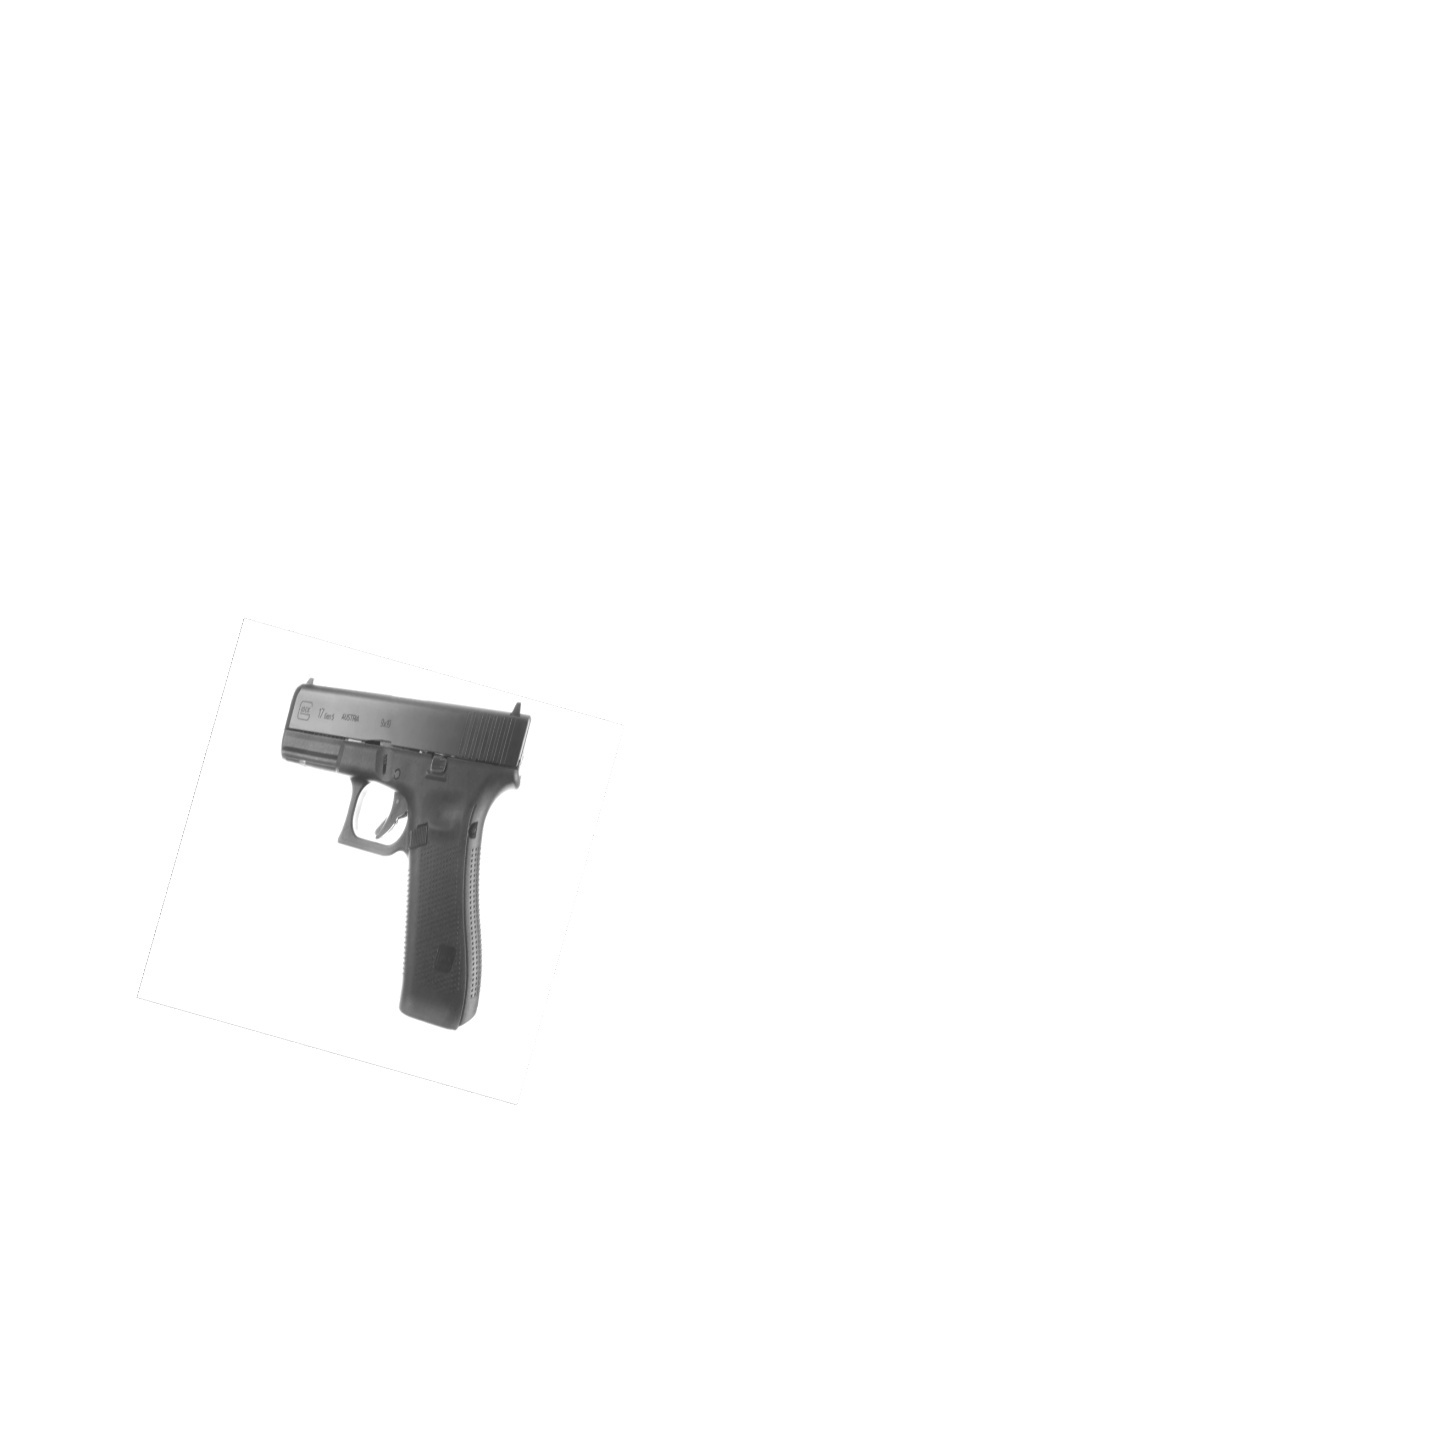gun: (280, 678, 532, 1031)
